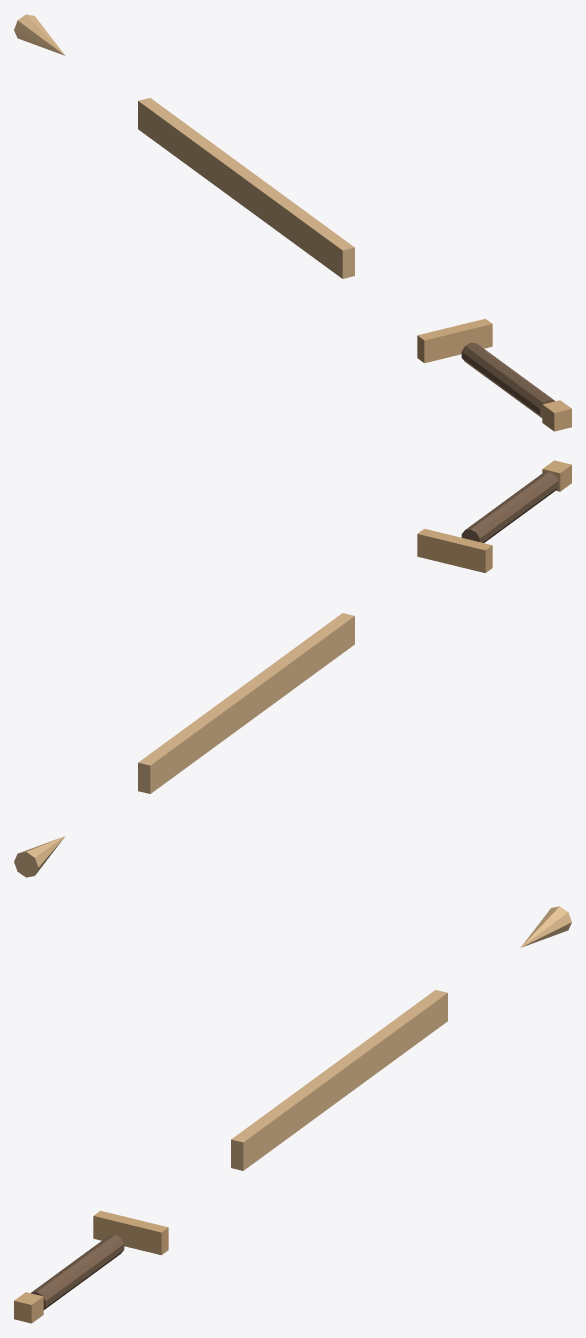
The model's file is equip_weapon_bronze_sword.glb.
3 views of the same model, one above another, from view 1: azimuth 30°, elevation 25°; view 2: azimuth 150°, elevation 25°; view 3: azimuth 330°, elevation 25° (orthographic).
Visible parts, largest first — view 1: equip_weapon_bronze_sword; view 2: equip_weapon_bronze_sword; view 3: equip_weapon_bronze_sword.
Boxes of the visible parts, x1,y1,x2,y2 form: equip_weapon_bronze_sword: [14, 14, 571, 431]; equip_weapon_bronze_sword: [14, 460, 571, 877]; equip_weapon_bronze_sword: [14, 906, 571, 1323].
Bounding box in the file's own units: 0.1 × 0.04 × 1.37.
